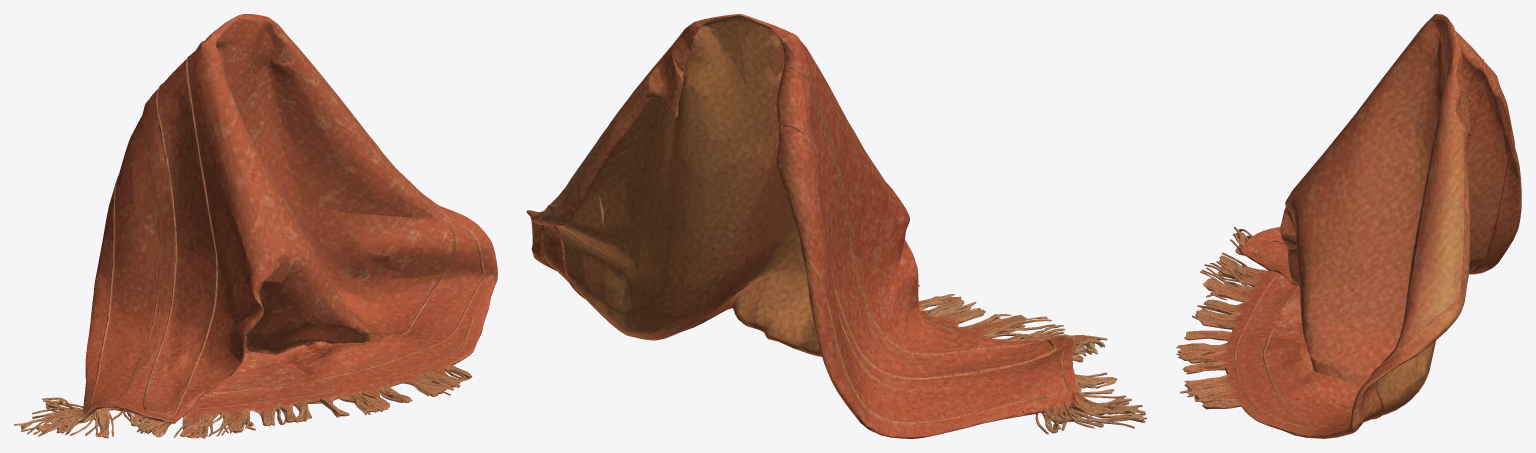
File: tubeteika_red_prop.glb
The picture shows the model from 3 angles, left to right: view 1: azimuth 30°, elevation 25°; view 2: azimuth 150°, elevation 25°; view 3: azimuth 270°, elevation 25°; orthographic projection. The views are drawn at different scales.
Parts seen in each view (by area): view 1: mesh_node; view 2: mesh_node; view 3: mesh_node.
Boxes of the visible parts, x1,y1,x2,y2 form: mesh_node: (14,14,497,438); mesh_node: (526,14,1147,438); mesh_node: (1176,14,1521,438).
Bounding box in the file's own units: 1.9 × 1.17 × 1.1.
1 material, 1 textured.
